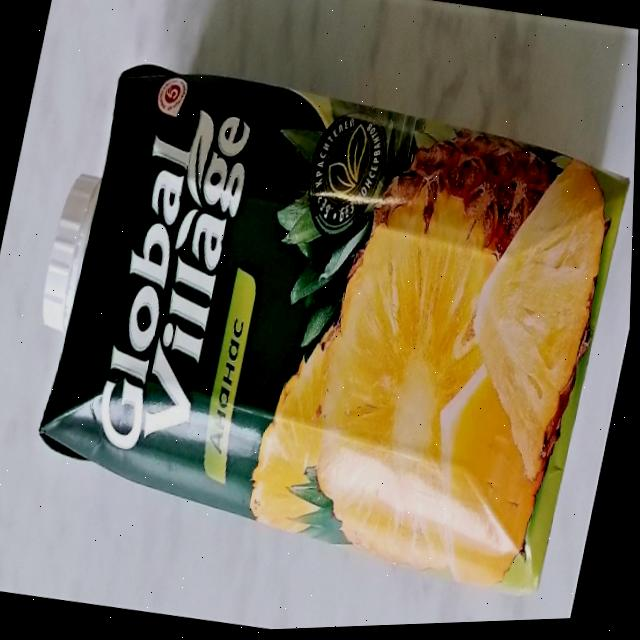Juice Global Village pineapple: (0, 26, 639, 613)
